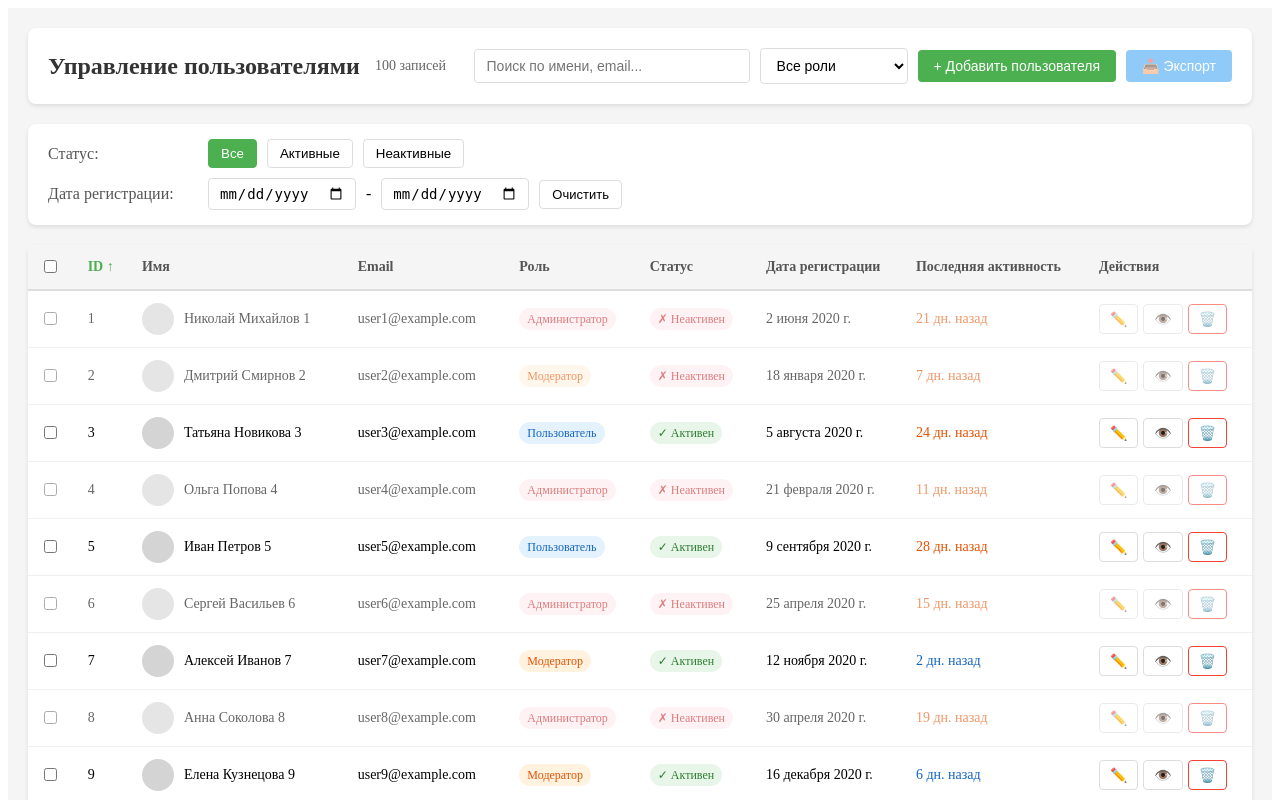
Scenario: UserTable › Фильтрация по дате › должен очистить фильтр дат при нажатии кнопки
Type "2024-01-01" into the 1st date field with class "date-input". click: [282, 194]
box: [208,178,356,210]
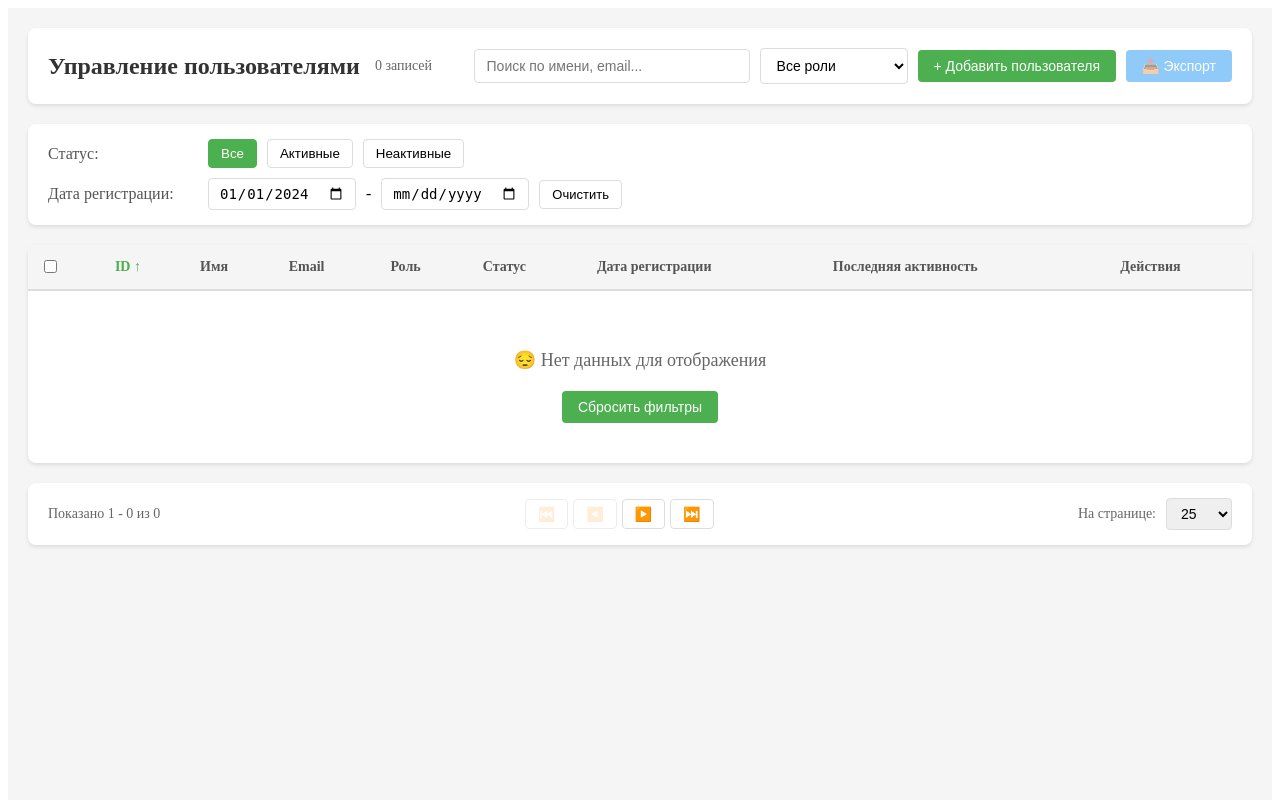
Click the button with class "btn-clear". click: [581, 194]
box: [539,180,622,208]
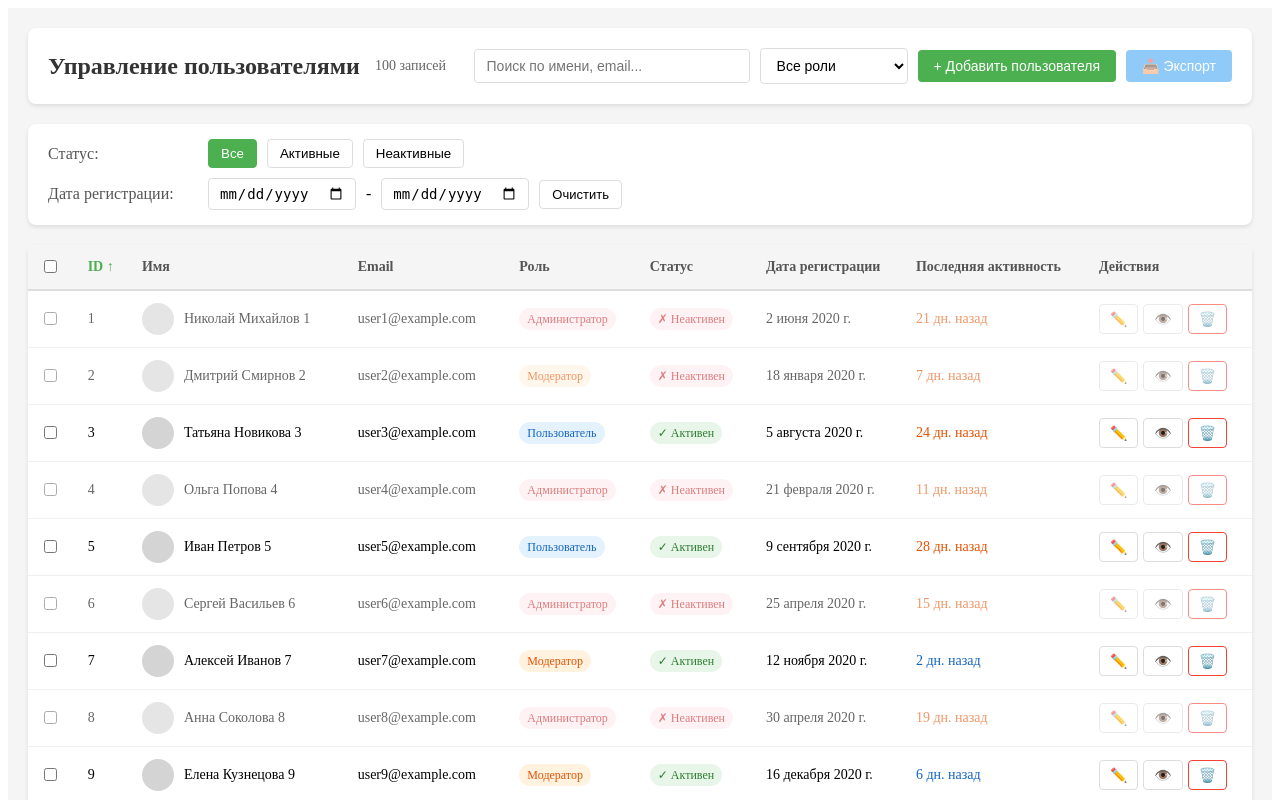
Expected: the 1st date field with class "date-input" is empty, [208,178,356,210]
